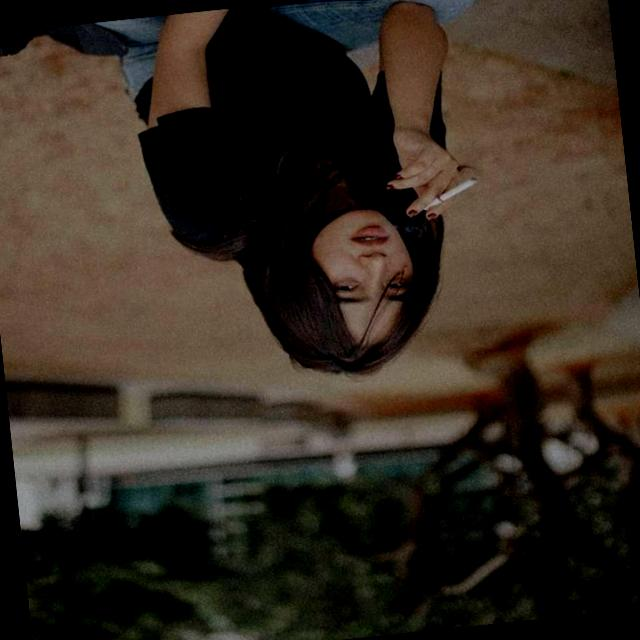smoke: (413, 168, 496, 225)
